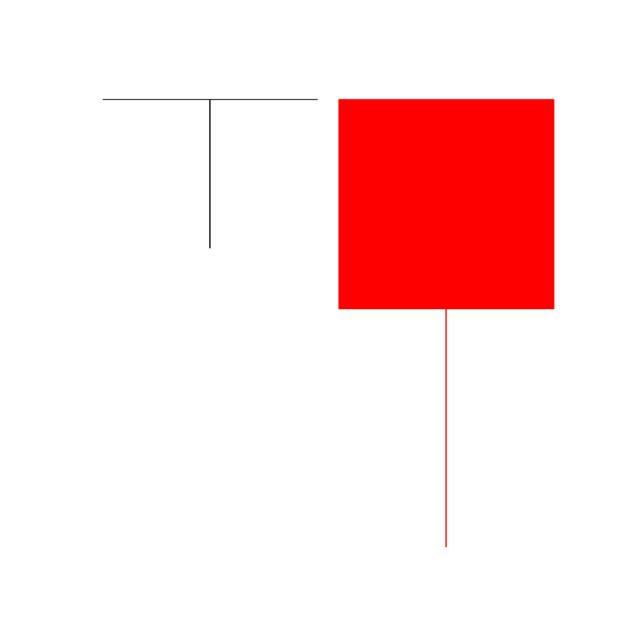Hanging Man: (327, 94, 565, 552)
